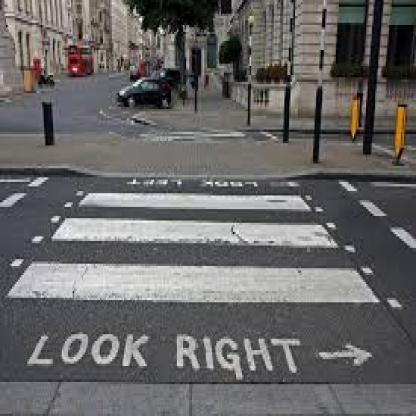car: (115, 82, 178, 111)
